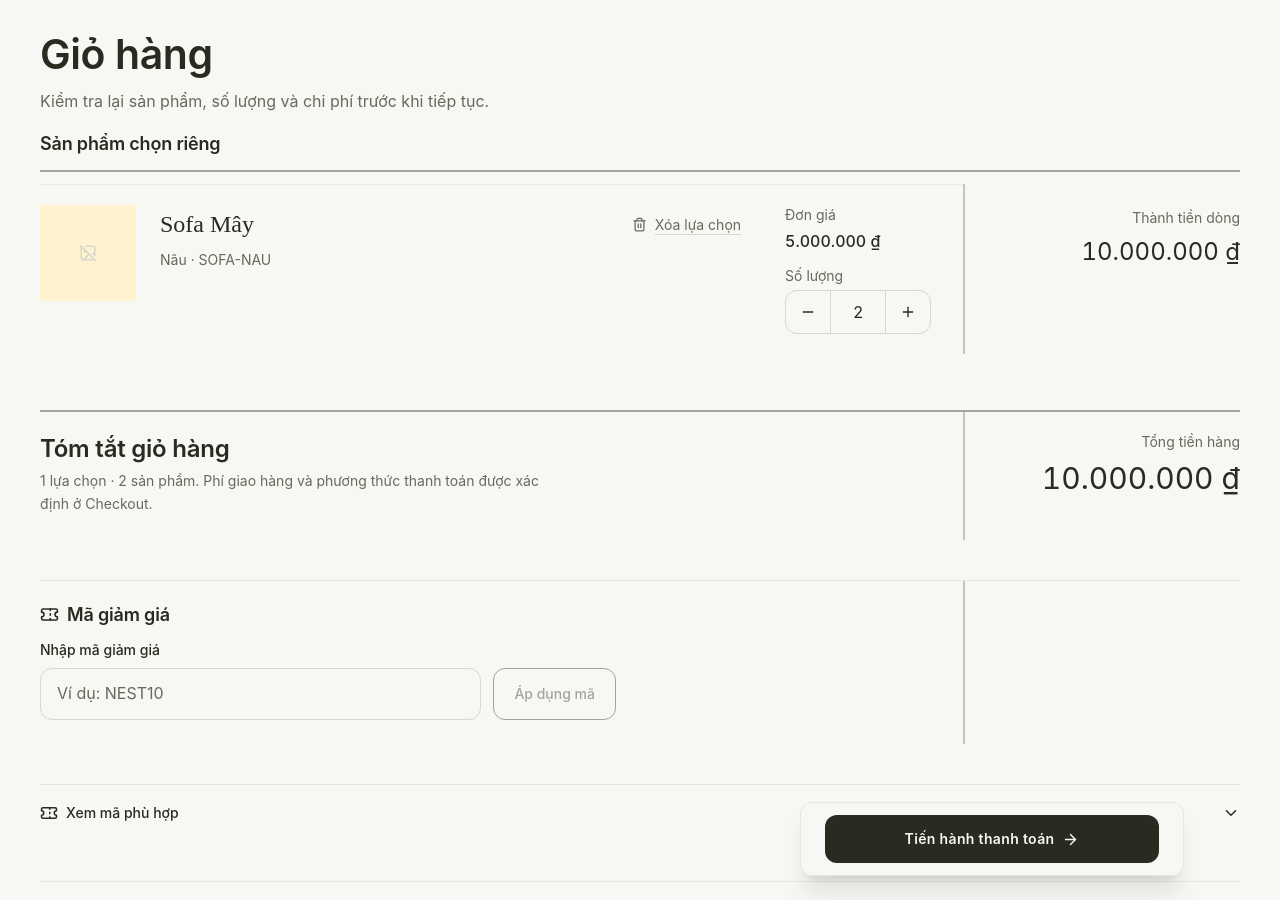
Test case: CartPage › restores confirmed quantity and shows an item-local error after a generic update failure
expect the link "Sofa Mây" is shown: met, box [160,208,254,241]
Click the button named "Tăng số lượng" at [908, 312], box [886,290,930,334]
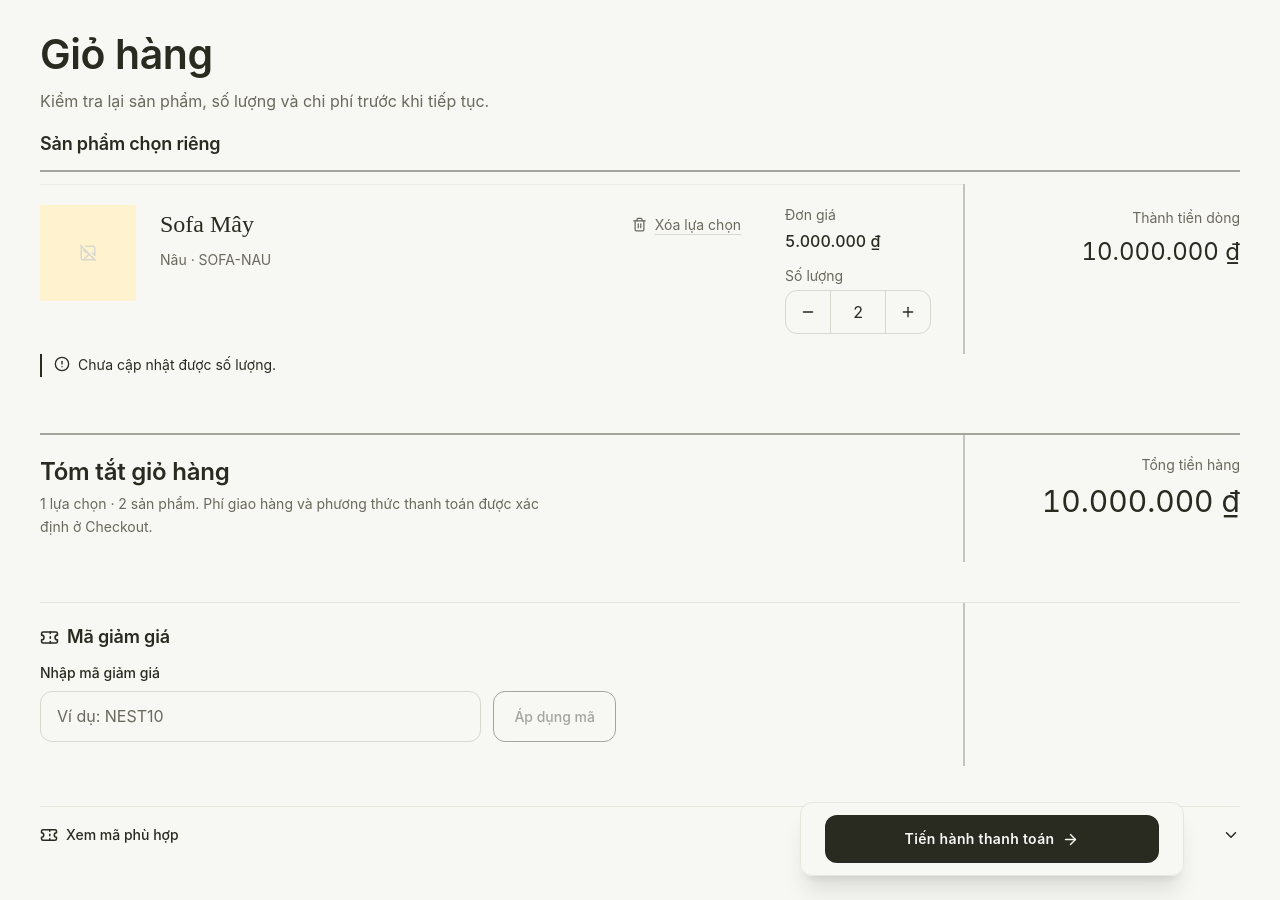
expect the number field labelled "Số lượng" holds "2": met, box [830,290,886,334]
expect the message reads "Chưa cập nhật được số lượng.": met, box [78,356,276,373]
